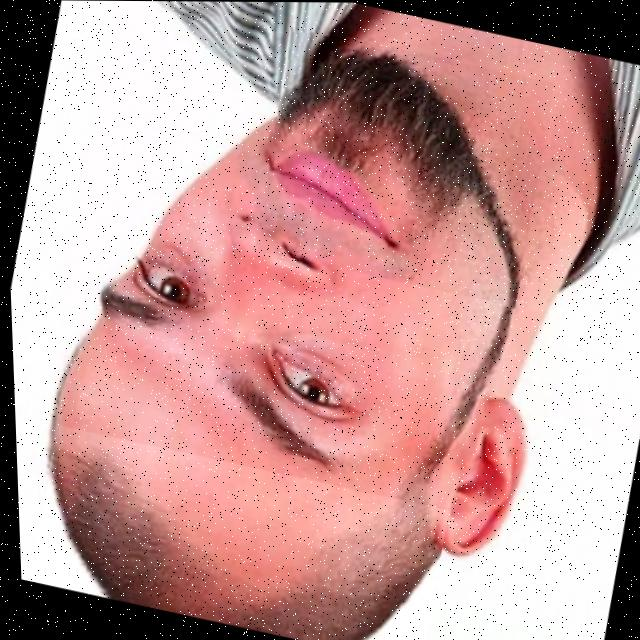beard: (275, 35, 520, 304)
hair: (47, 439, 436, 640)
